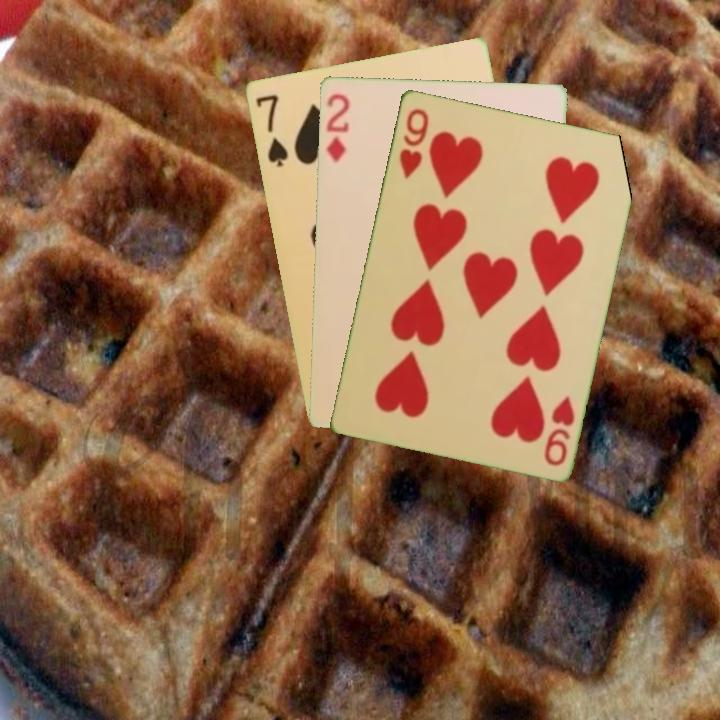2d: (322, 90, 352, 165)
7s: (251, 90, 291, 170)
9h: (395, 104, 432, 182), (540, 392, 577, 469)
